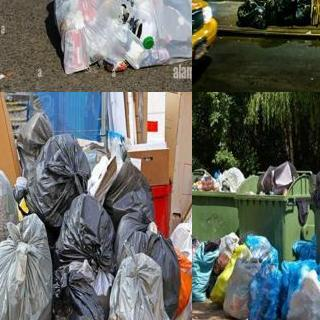Garbage: (39, 0, 192, 73), (87, 145, 160, 231), (105, 244, 180, 320), (27, 136, 90, 222), (0, 216, 52, 320), (45, 254, 115, 320), (247, 256, 284, 320), (168, 206, 192, 304), (226, 254, 261, 318), (285, 266, 320, 320), (0, 157, 19, 254), (192, 244, 216, 303), (233, 0, 272, 29), (265, 0, 298, 26), (309, 157, 320, 201)
